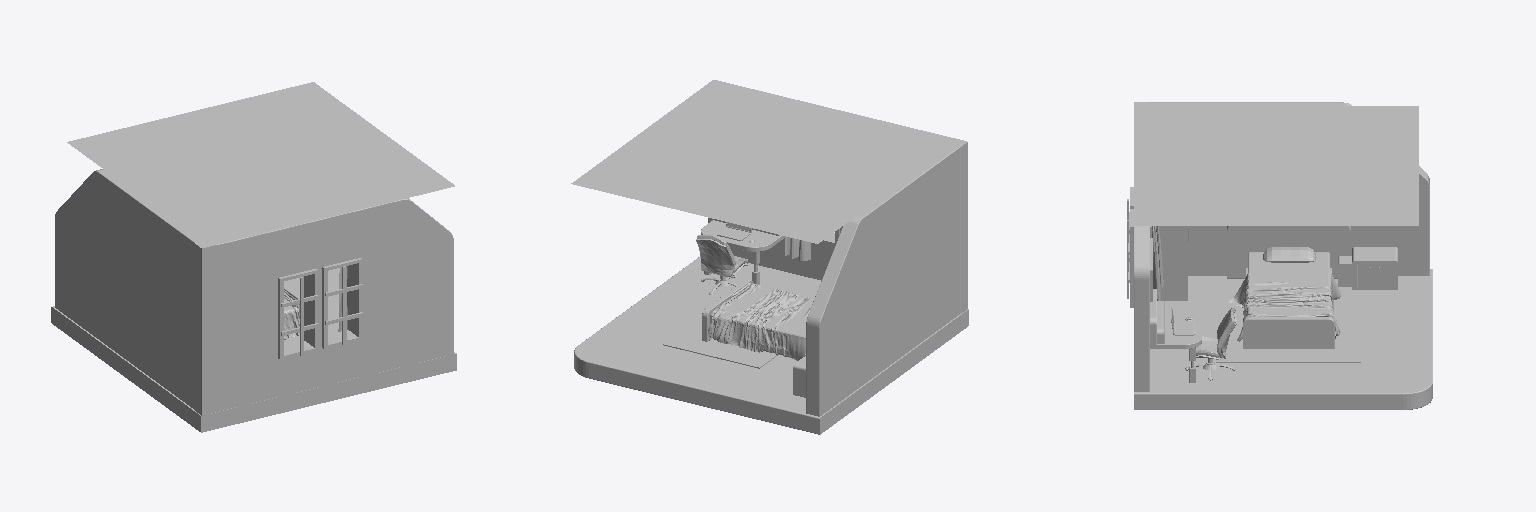
File: Room6.obj
3 renders of one model, left to right at view 1: azimuth 30°, elevation 25°; view 2: azimuth 150°, elevation 25°; view 3: azimuth 270°, elevation 25°, orthographic.
Parts seen in each view (by area): view 1: Room6.001; view 2: Room6.001; view 3: Room6.001.
Boxes of the visible parts, x1,y1,x2,y2 form: Room6.001: [51, 82, 456, 432]; Room6.001: [571, 80, 968, 434]; Room6.001: [1127, 102, 1432, 409].
Size of the model in its own units: 22.1 by 15.16 by 22.85.